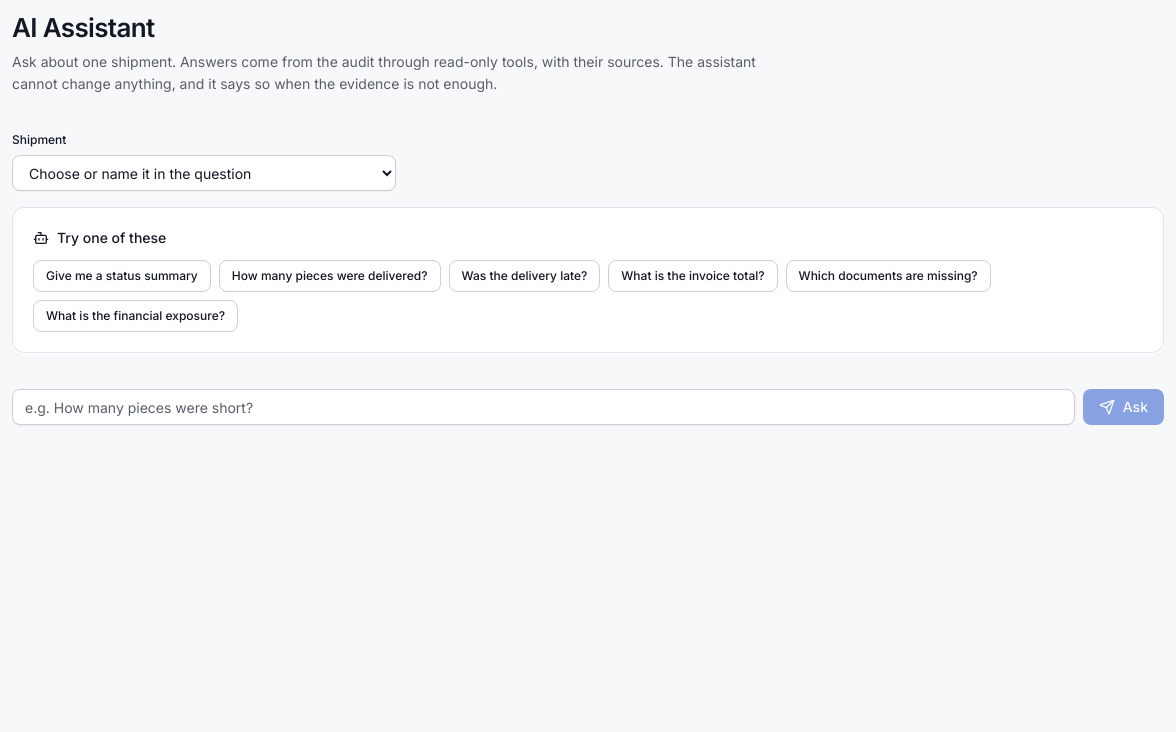
Test: AI Assistant › sends the question with the chosen shipment and shows answer, sources and tools
Select "SHJ-2026-001" in the dropdown labelled "Shipment": (204, 173) [12,155,396,191]
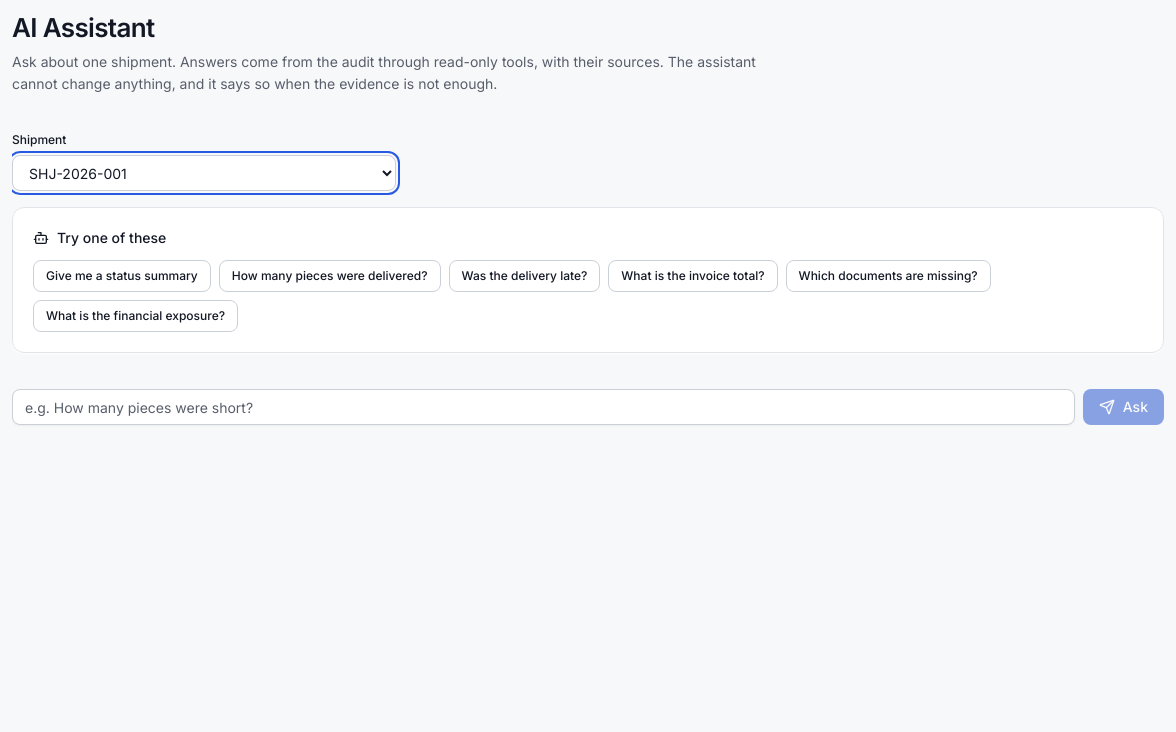
In the field named "Your question": (543, 407) [12,389,1075,425], type "How many pieces were short?"
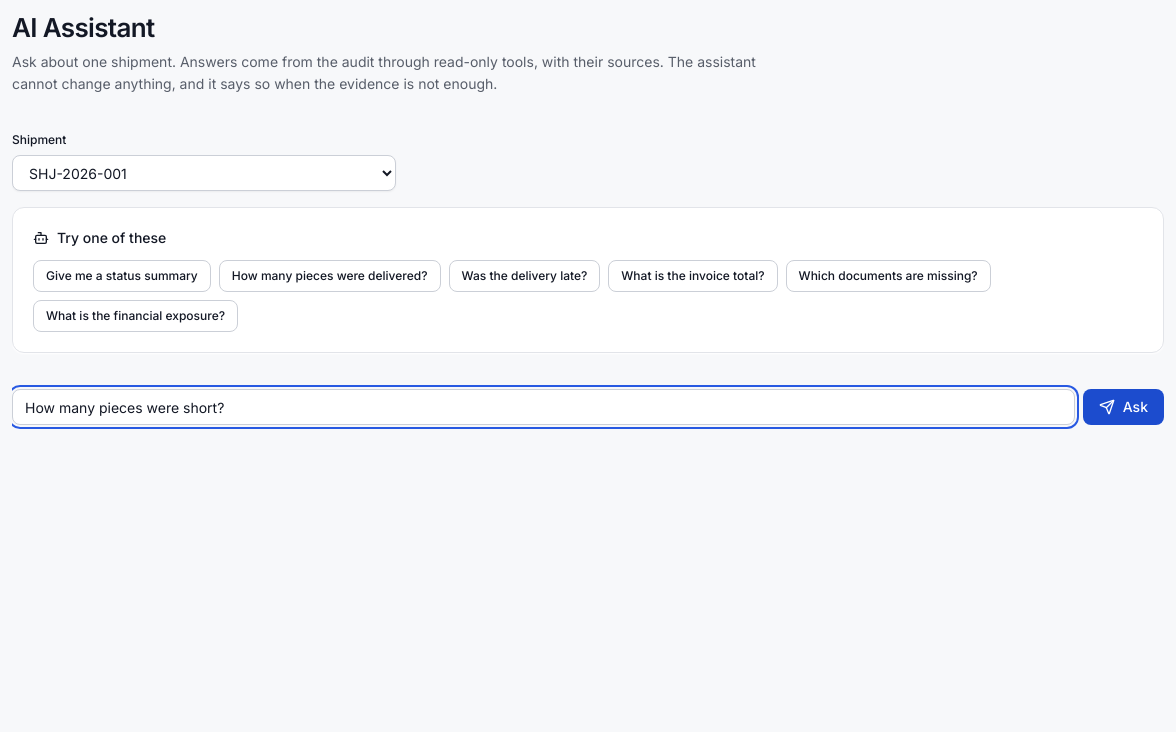
Click the button "Ask": (1123, 407) [1083,389,1164,425]
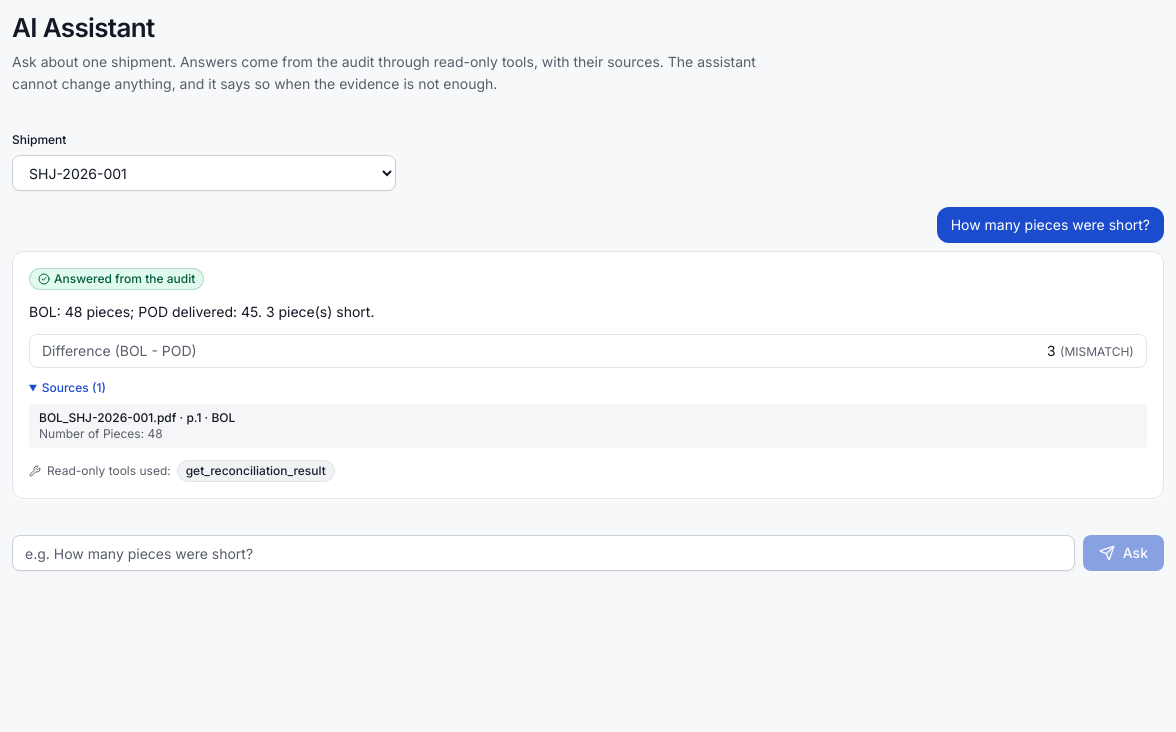
Expected: the text "BOL: 48 pieces; POD delivered: 45. 3 piece(s) short." is shown, [29,303,374,320]
Expected: the text "BOL_SHJ-2026-001.pdf · p.1 · BOL" is shown, [39,410,235,425]
Expected: the text "get_reconciliation_result" is shown, [177,460,335,482]
